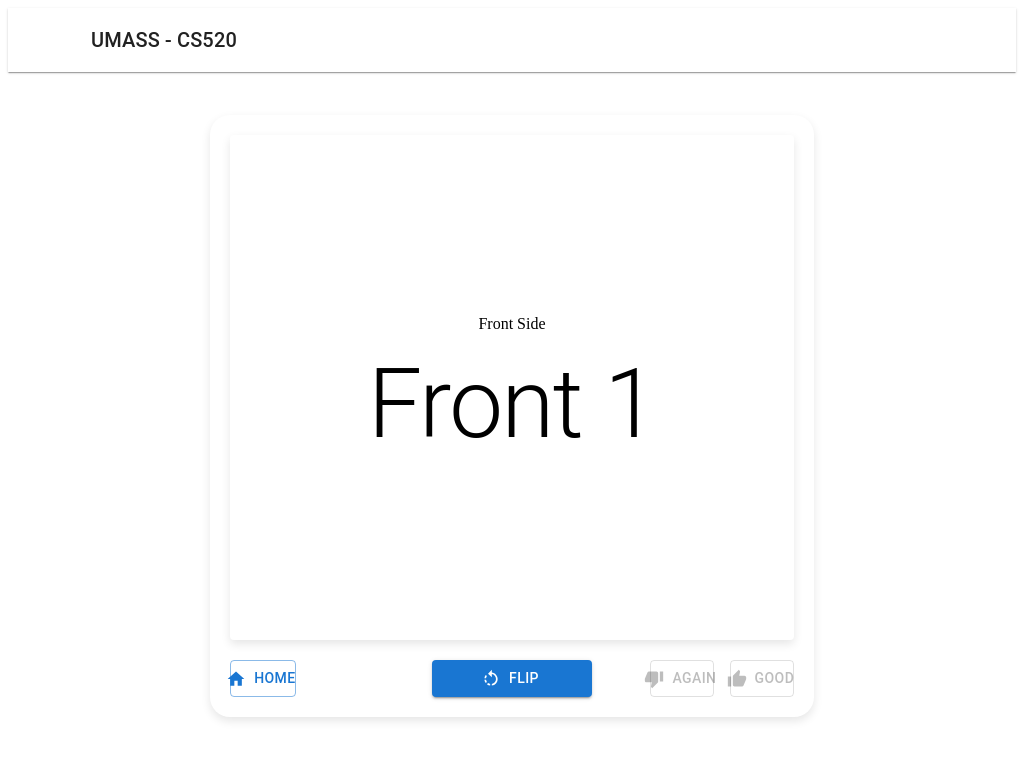
Test: Practice Component › "Good" button modifies mastery and advances
Click the button "Flip".
click(512, 679)  # box [432, 660, 592, 697]
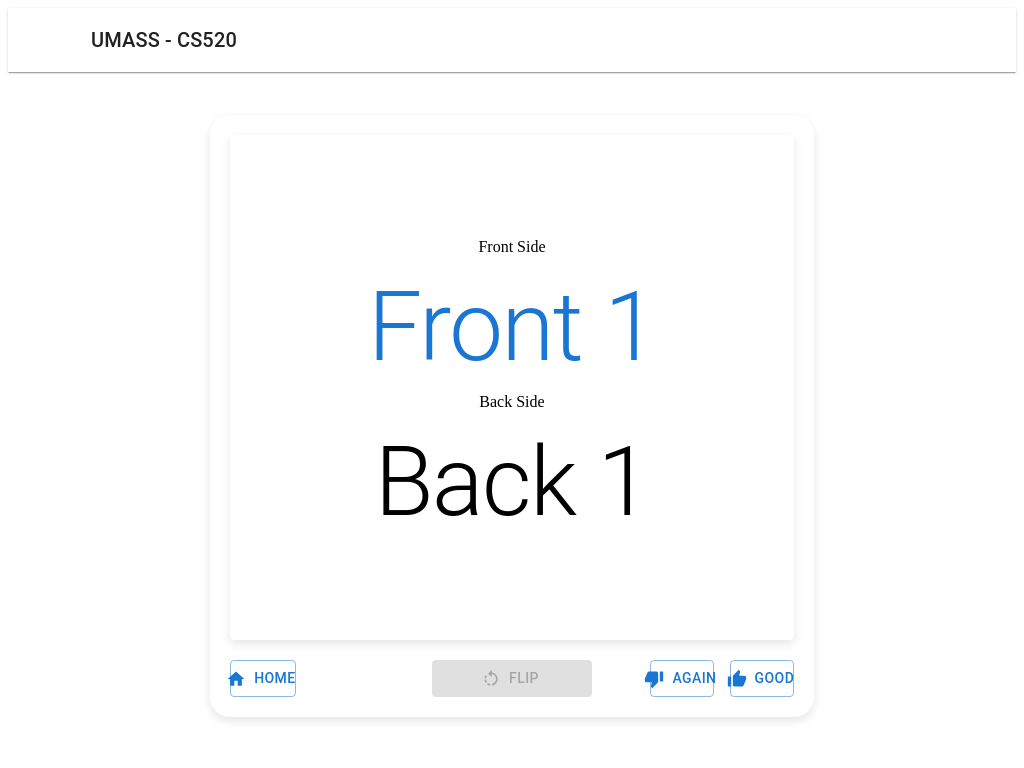
Click the button "Good".
click(762, 679)  # box [730, 660, 794, 697]
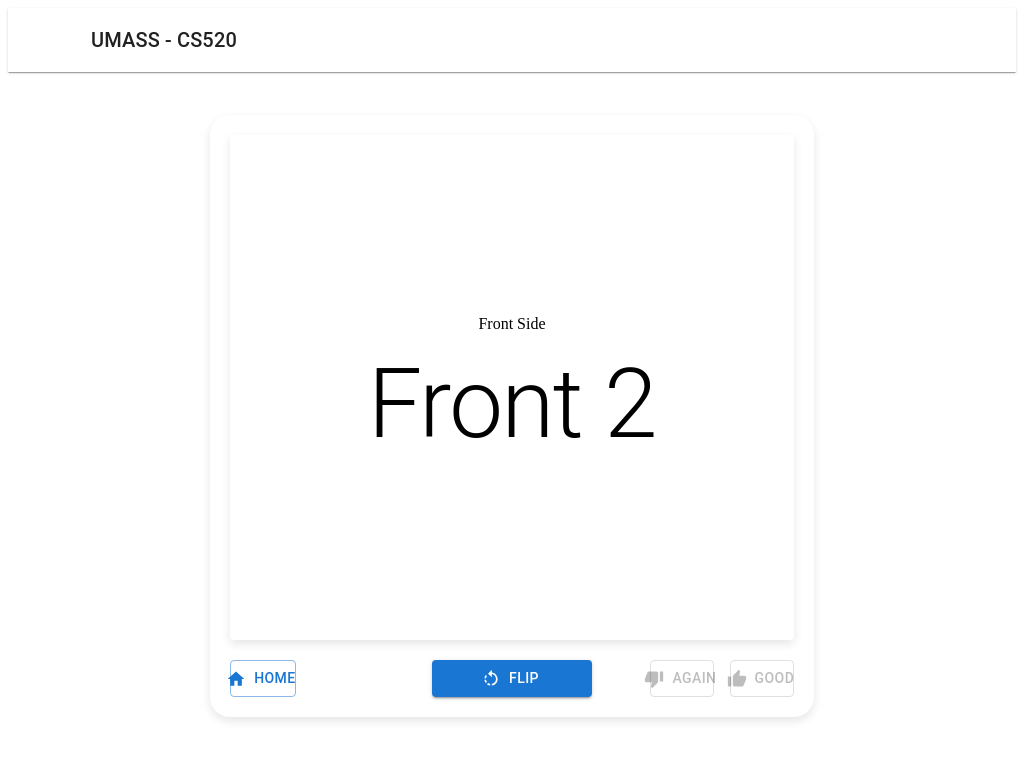
Expected: the text "Front Side" is shown, [478, 315, 546, 333]
Now the text "Back Side" is gone
